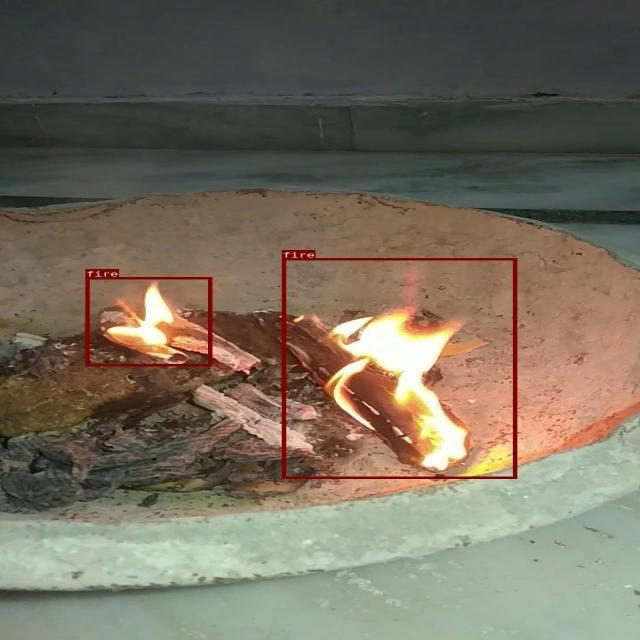fire: (282, 258, 516, 479), (85, 277, 211, 366)
